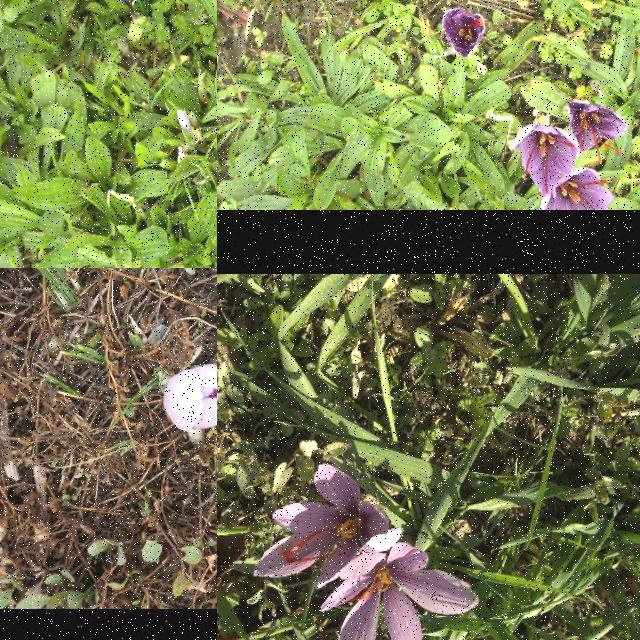flower: (253, 464, 401, 590), (319, 544, 480, 640), (514, 124, 580, 198), (567, 101, 627, 165), (163, 362, 217, 431), (540, 168, 614, 210), (443, 10, 485, 60)
